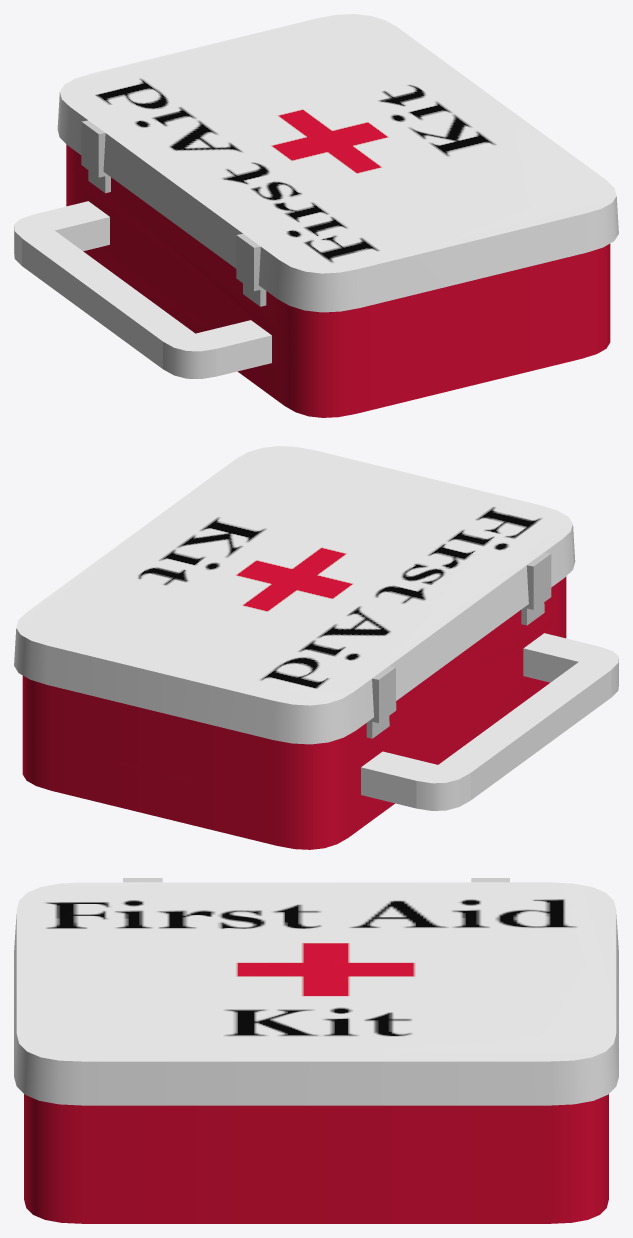
File: FirstAidKit.FBX
3 renders of one model, top to bottom at view 1: azimuth 30°, elevation 25°; view 2: azimuth 150°, elevation 25°; view 3: azimuth 270°, elevation 25°, orthographic. The views are drawn at different scales.
Parts seen in each view (by area): view 1: Box001; view 2: Box001; view 3: Box001.
Boxes of the visible parts, x1=… form: Box001: x1=14, y1=14, x2=618, y2=417; Box001: x1=14, y1=446, x2=618, y2=849; Box001: x1=14, y1=878, x2=618, y2=1223.
Bounding box in the file's own units: 9.12 × 3.13 × 10.34.
